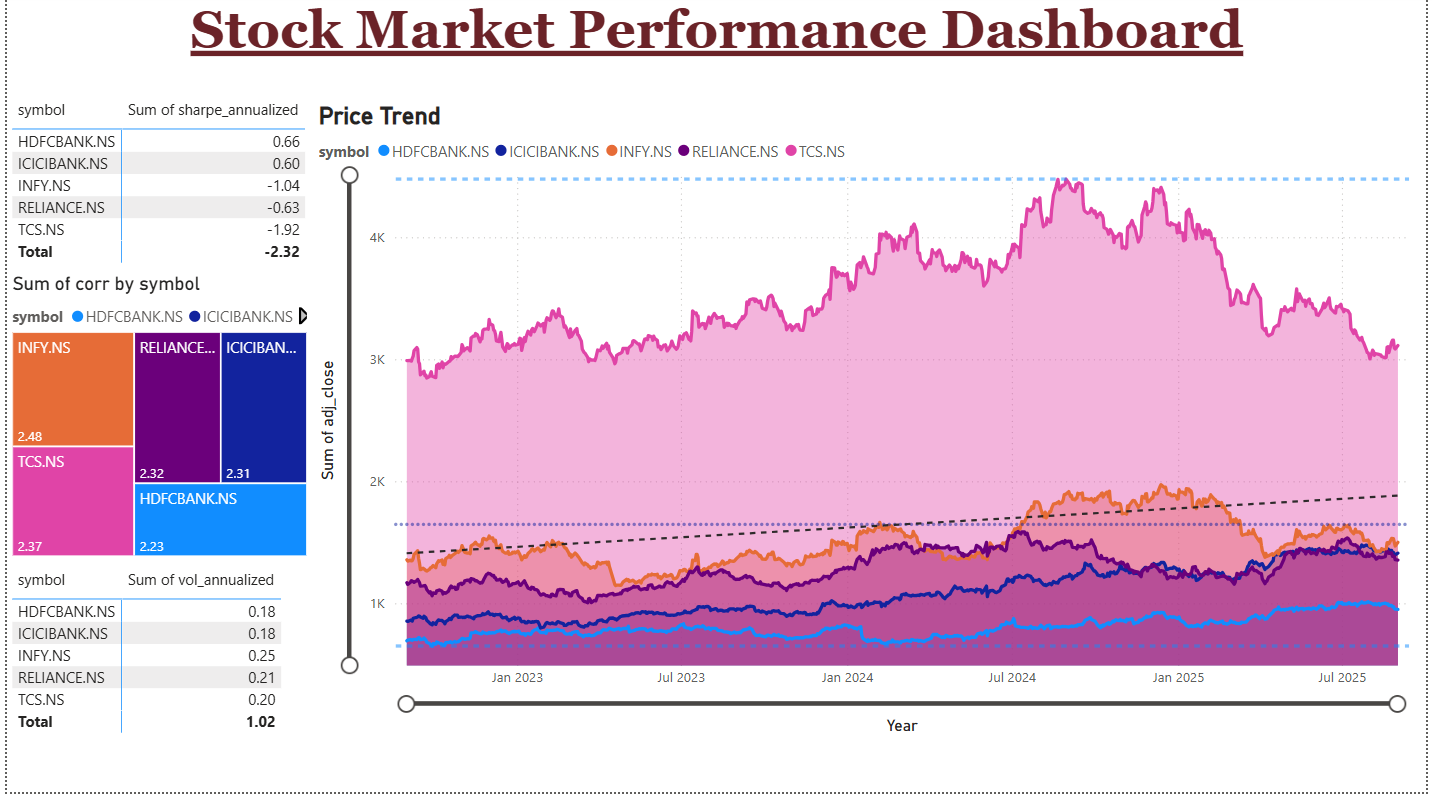

What the dashboard file says about the page in this screenshot:
{"tool":"powerbi","page":{"name":"Page 1","canvas":[1280,720],"ordinal":0},"visuals":[{"type":"lineChart","title":"Price Trend","fields":{"Category":["prices.date.Variation.Date Hierarchy.Year","prices.date.Variation.Date Hierarchy.Quarter","prices.date.Variation.Date Hierarchy.Month","prices.date.Variation.Date Hierarchy.Day"],"Y":["Sum(prices.adj_close)"],"Series":["prices.symbol"]},"box":[275.6,96.5,1004.7,574.4],"z":0},{"type":"pivotTable","fields":{"Rows":["metrics.symbol"],"Values":["Sum(metrics.sharpe_annualized)"]},"box":[0,88.4,275.6,162.8],"z":1000},{"type":"treemap","fields":{"Values":["Sum(corr_long.corr)"],"Details":["metrics.symbol"]},"box":[0,251.2,275.6,260.5],"z":2000},{"type":"pivotTable","fields":{"Rows":["metrics.symbol"],"Values":["Sum(metrics.vol_annualized)"]},"box":[0,511.6,275.6,159.3],"z":3000},{"type":"textbox","box":[0,0,1280.2,88.4],"z":4000}]}

Visuals, with their boxes in screenshot pixels (x1, y1, x2, y2), scaled from the page's 1280x720 canvas onto the 1432x795 screenshot:
"Price Trend" lineChart: (308,107,1431,741)
pivotTable - metrics.symbol x Sum(metrics.sharpe_annualized): (0,98,308,277)
treemap - Sum(corr_long.corr) x metrics.symbol: (0,277,308,565)
pivotTable - metrics.symbol x Sum(metrics.vol_annualized): (0,565,308,741)
textbox: (0,0,1431,98)
